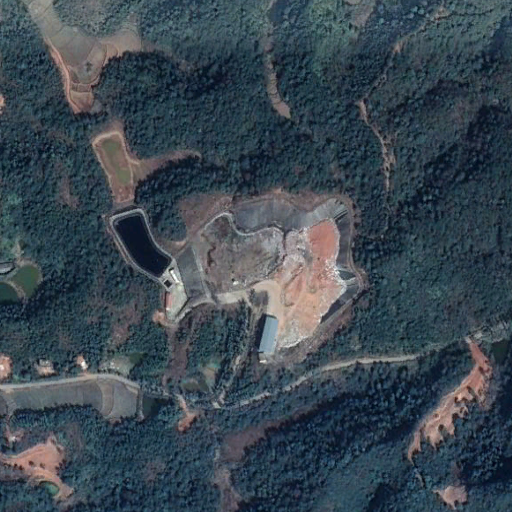lf: (172, 193, 361, 355)
